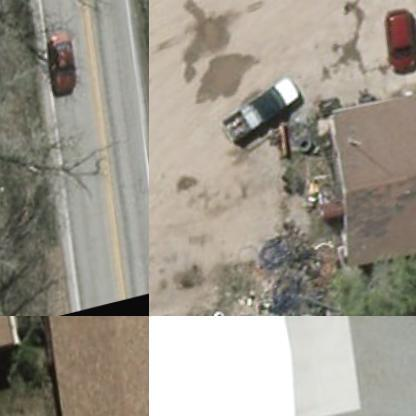car: (40, 30, 91, 102), (380, 4, 415, 78)
pickup: (210, 74, 310, 148)
